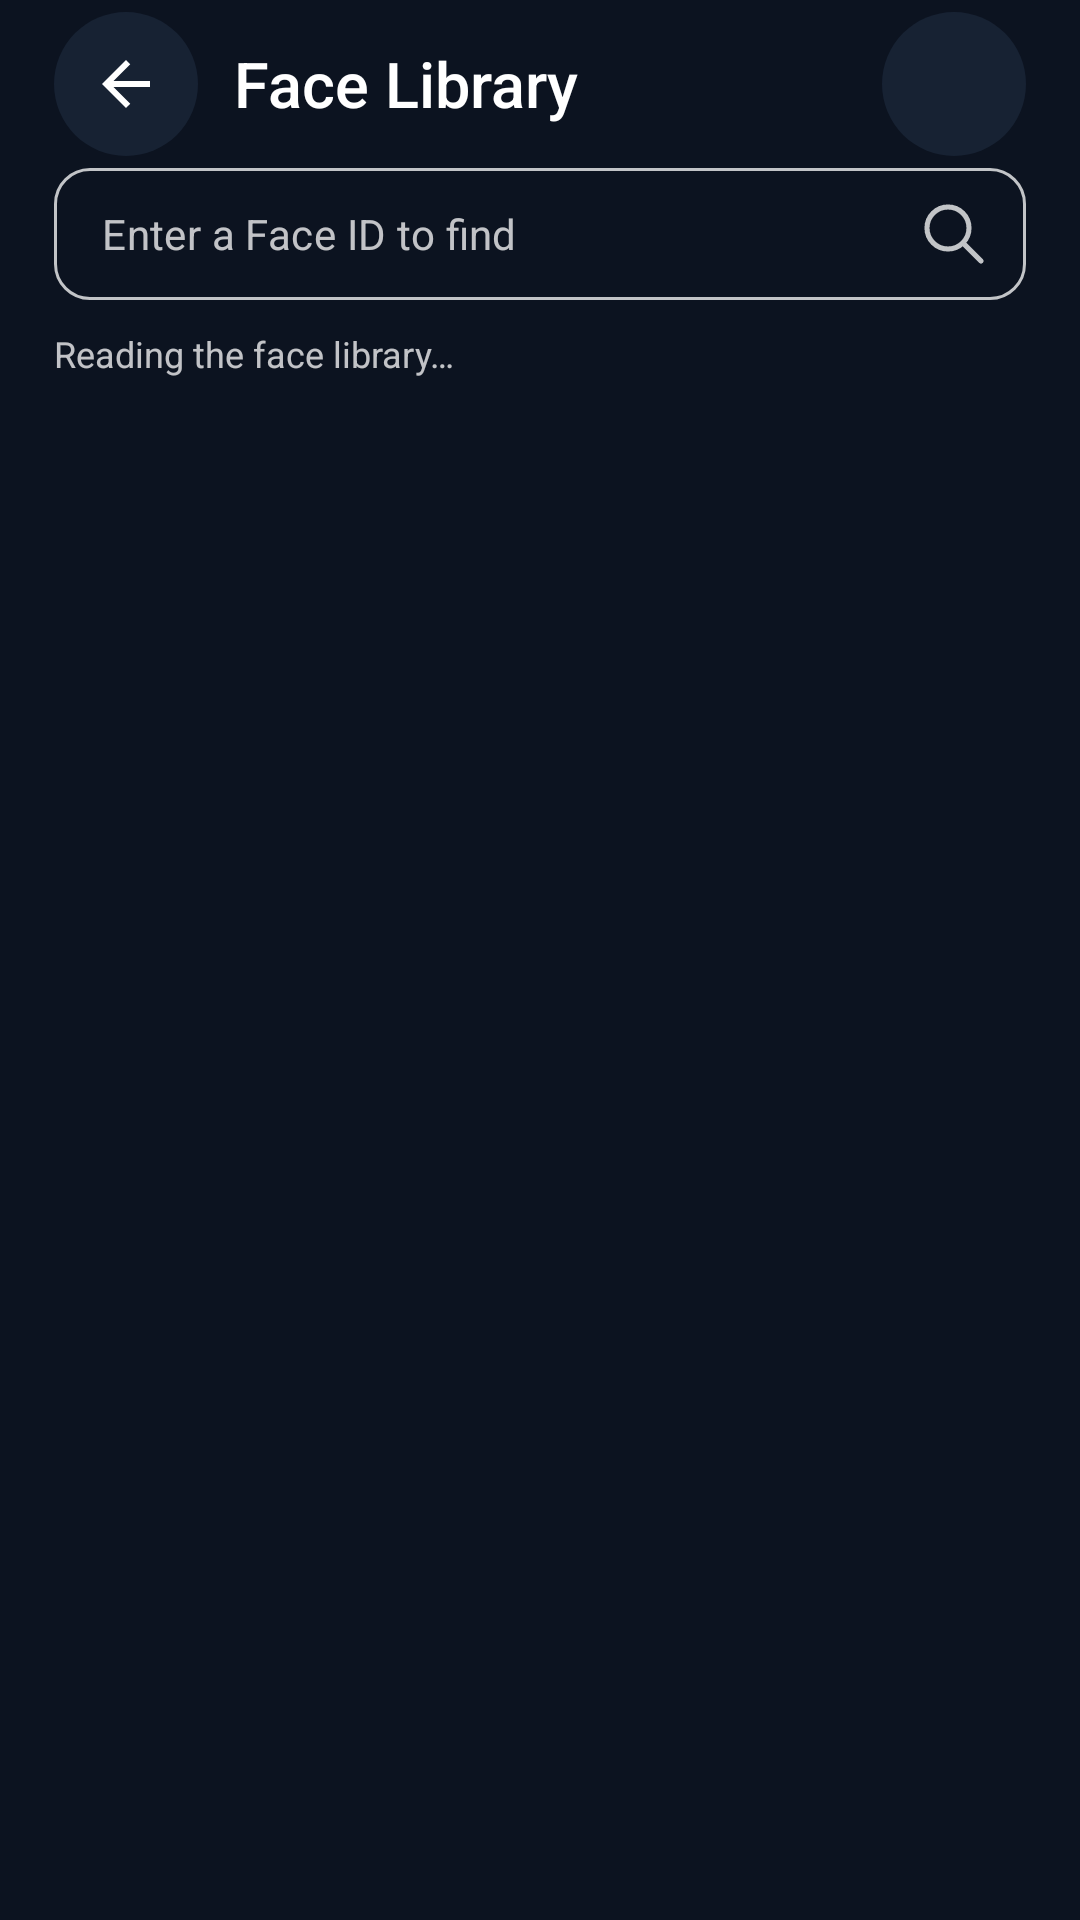

Screen size 1080 × 1920. Icon name, then its center in pixels as (x=x, y=y):
Back: (x=126, y=84)
